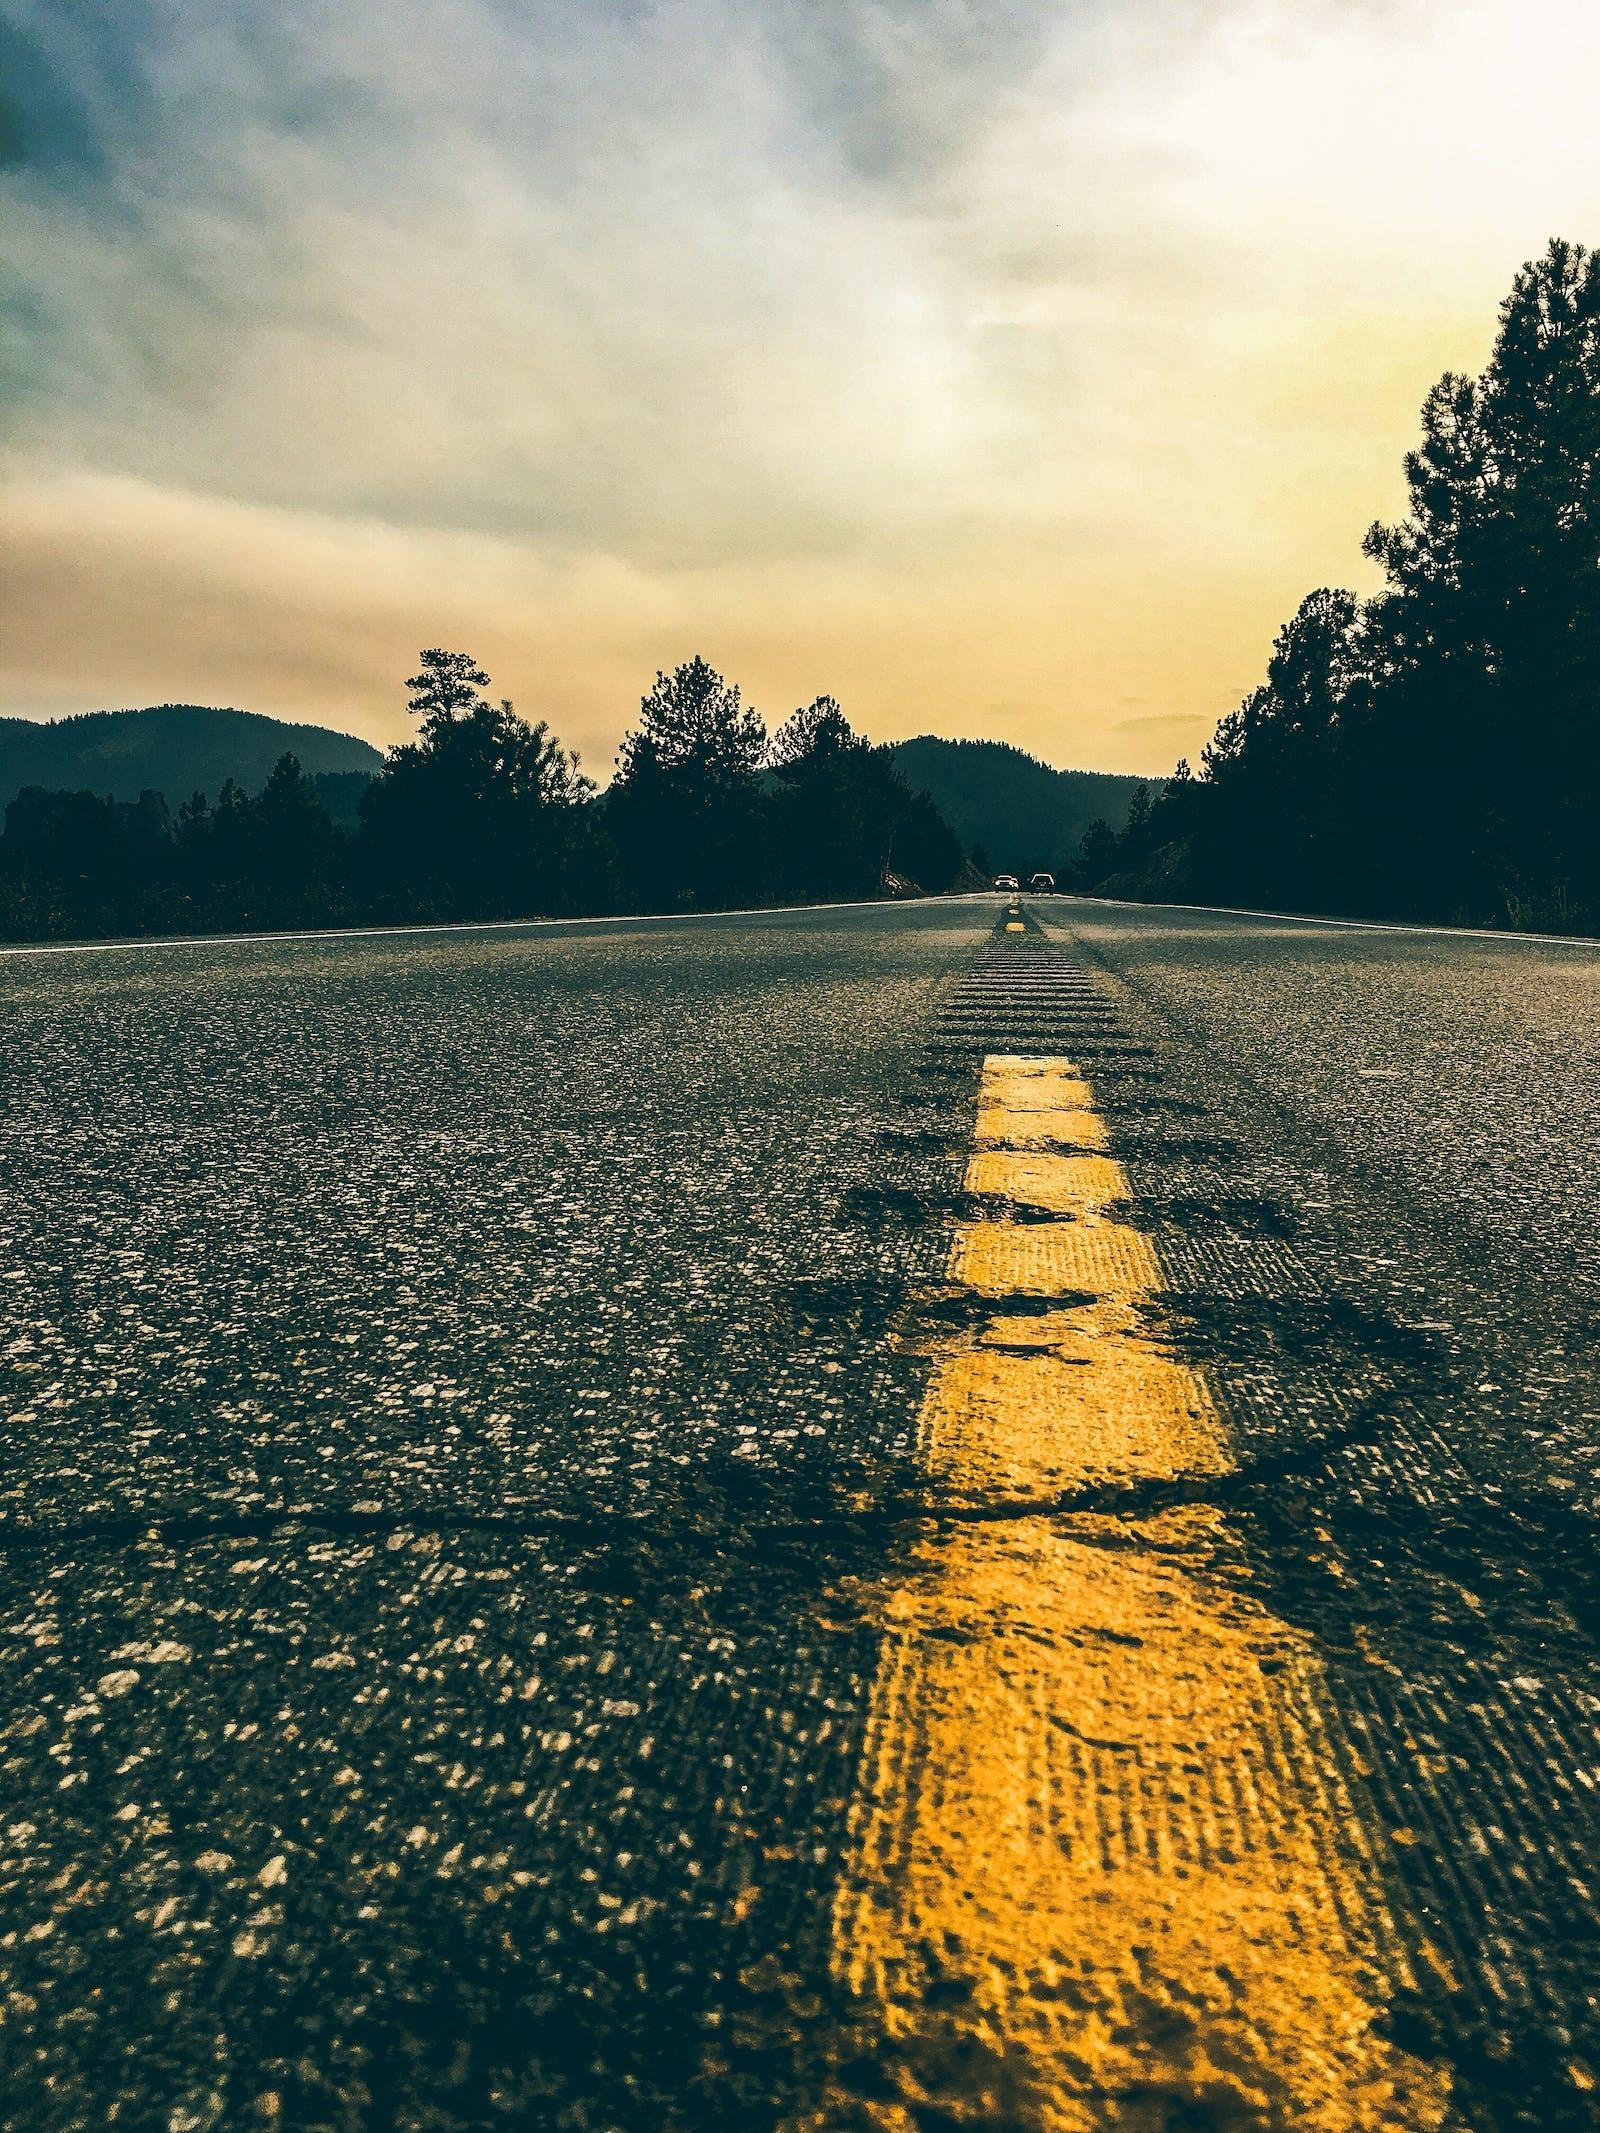road: (7, 901, 1595, 2131)
